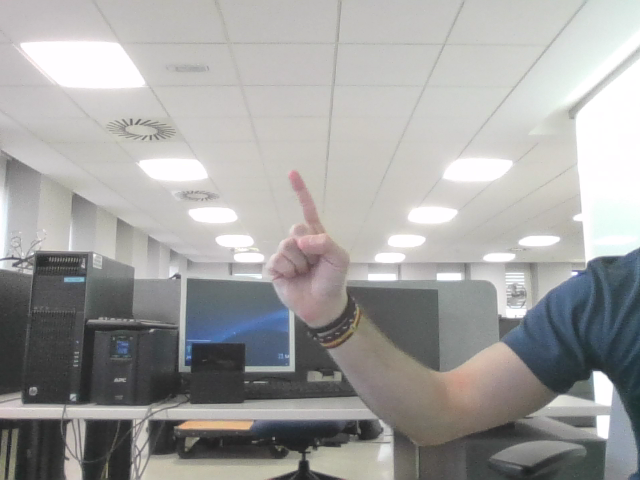1Dedo: (279, 180, 337, 279)
